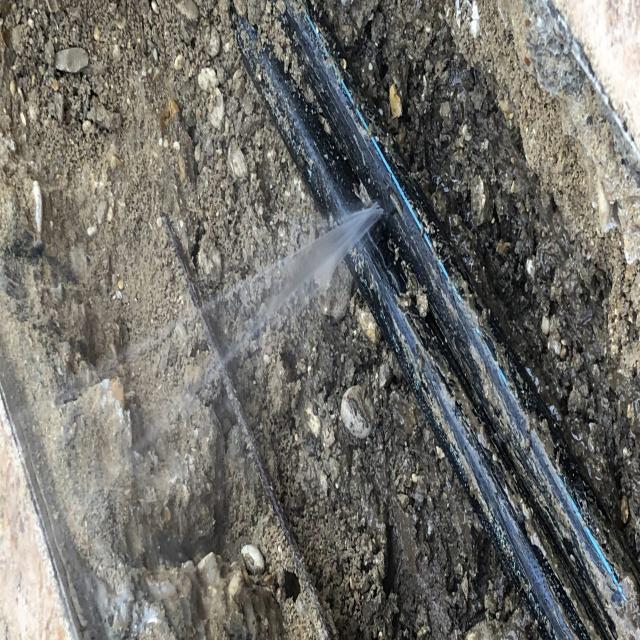leak: (206, 202, 382, 364)
